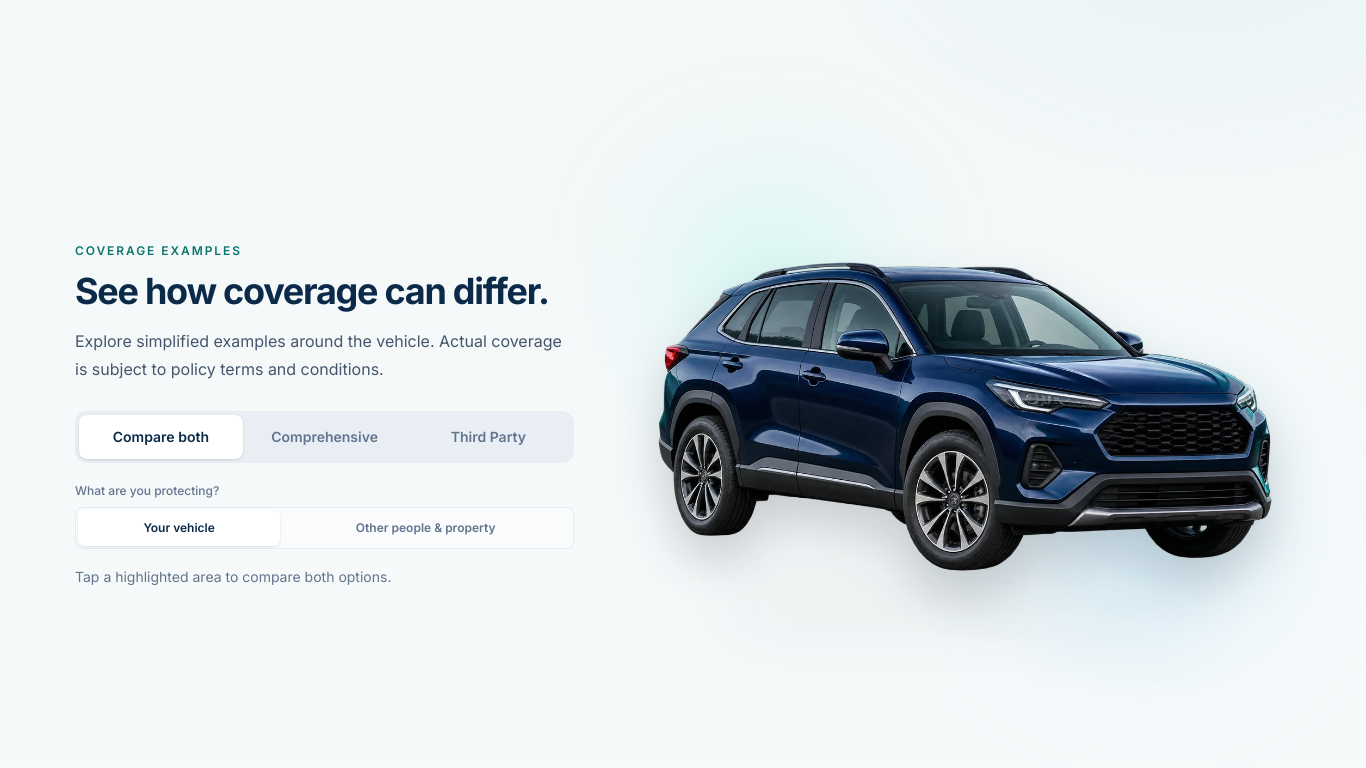
Test: combined hero and coverage story › switches to a subtle liability perspective without adding another car
(page scrolled)
Click the button "Other people & property" at (426, 528), box [280,510,571,546]
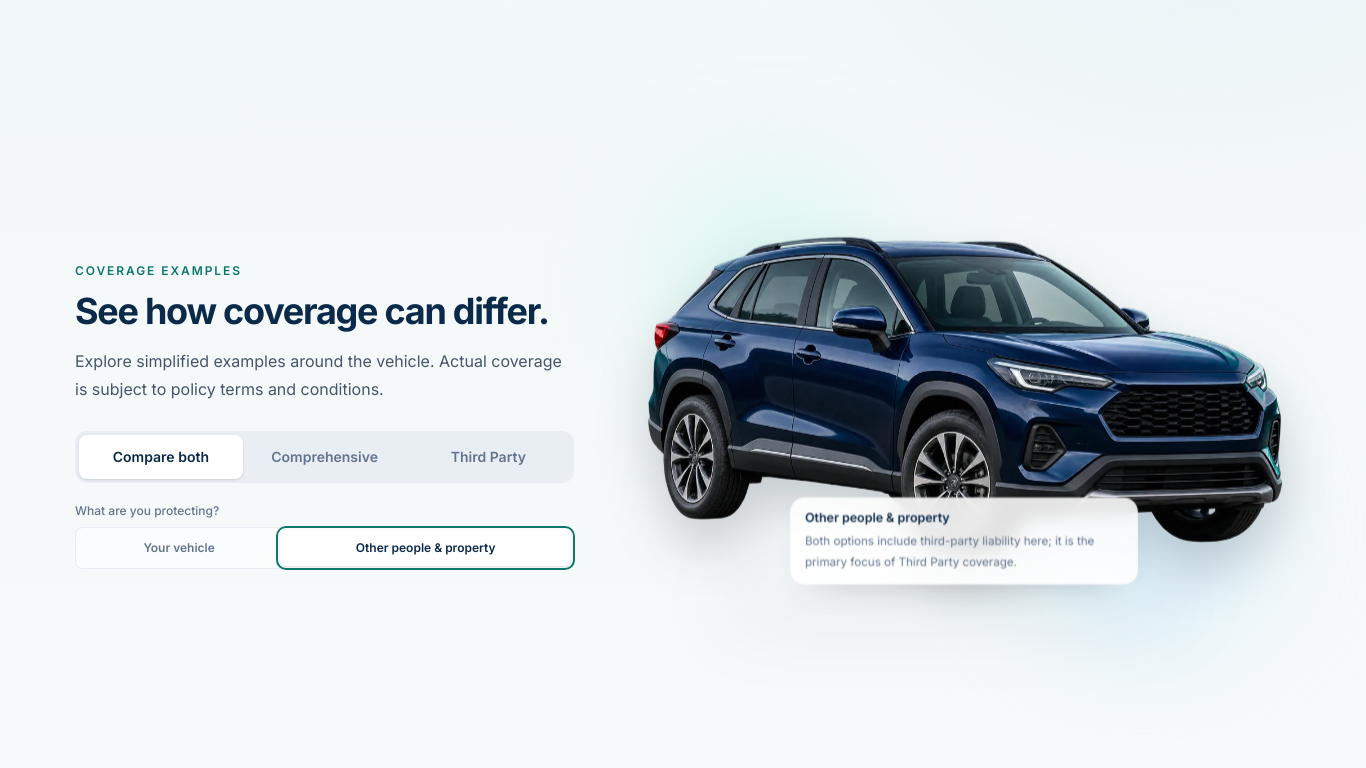
Expected: the number of pictures named "Vehicle illustrating motor coverage examples" is 1, [627,171,1302,621]
Result: the text "Both options include third-party liability here" is shown at [805,534,1094,570]
